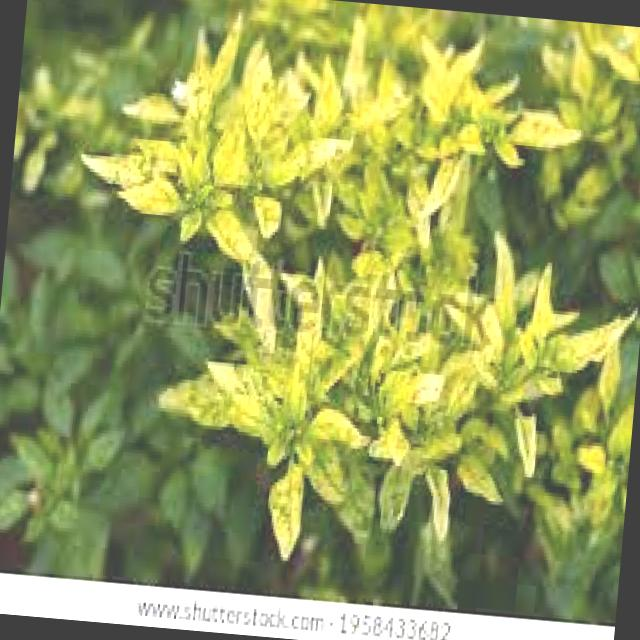yellowish leaf: (41, 0, 640, 610)
